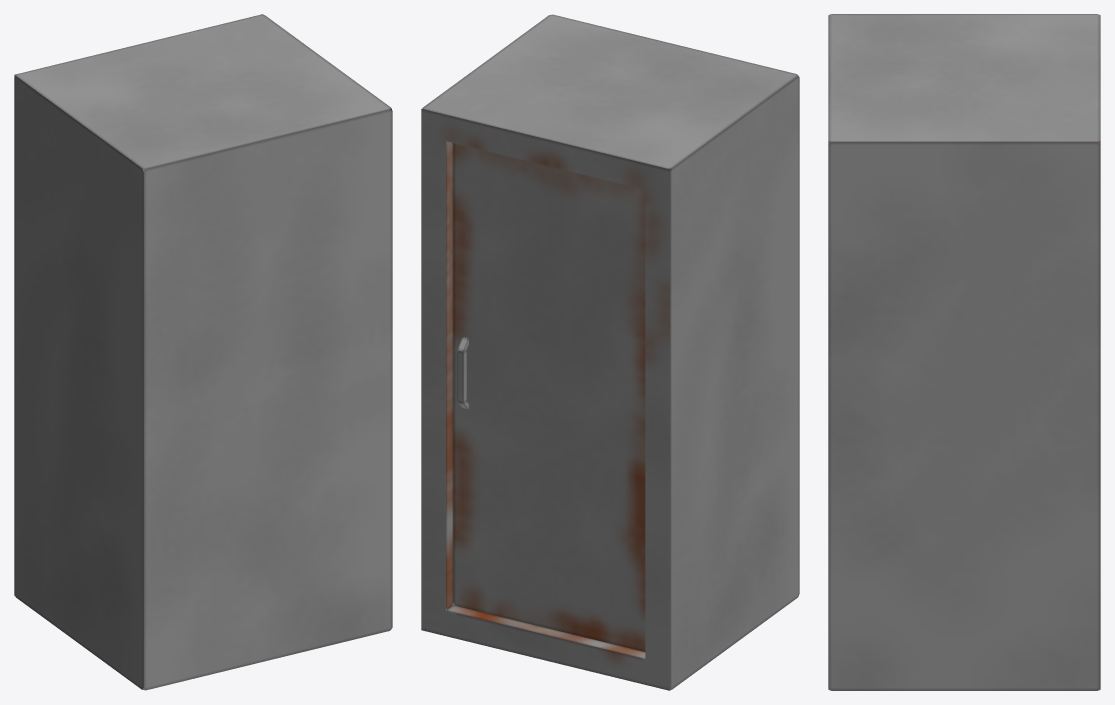
Rendered from MetalLocker.fbx.
3 views of the same model, side by side, from view 1: azimuth 30°, elevation 25°; view 2: azimuth 150°, elevation 25°; view 3: azimuth 270°, elevation 25° (orthographic). The views are drawn at different scales.
Visible parts, largest first — view 1: cuboid; view 2: cuboid; view 3: cuboid.
Part boxes in pixels (bbox=[...]): cuboid: bbox=[14, 14, 392, 690]; cuboid: bbox=[421, 14, 799, 690]; cuboid: bbox=[828, 14, 1100, 690].
Size of the model in its own units: 125 by 250 by 112.
Materials: 1 (1 with a texture image).
